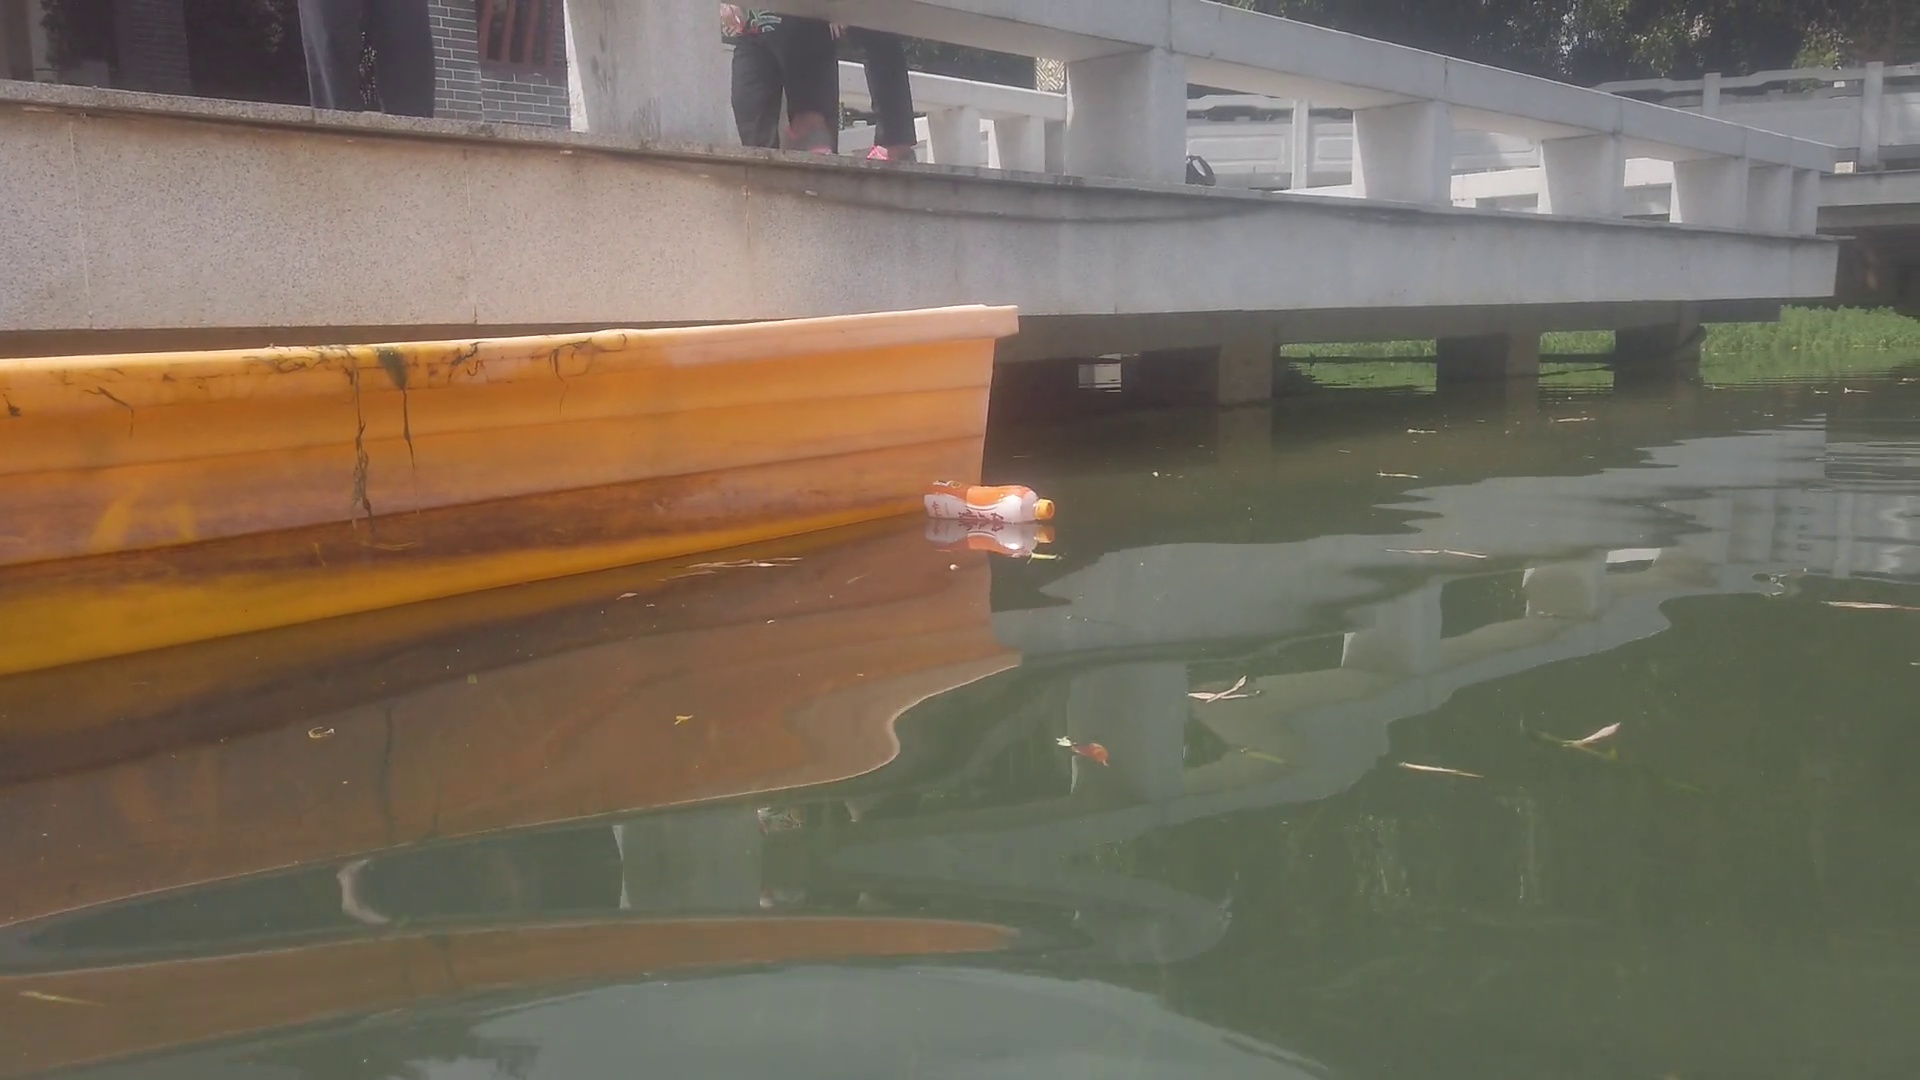bottle: (922, 480, 1056, 525)
